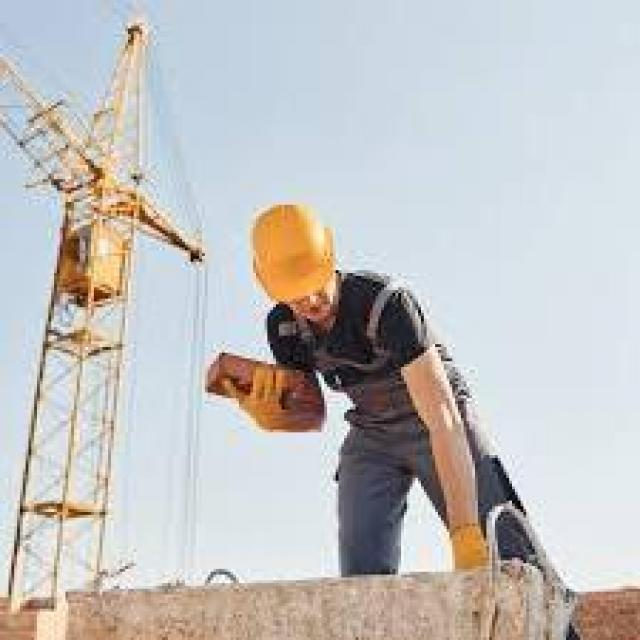safety_helmet: (230, 184, 346, 318)
